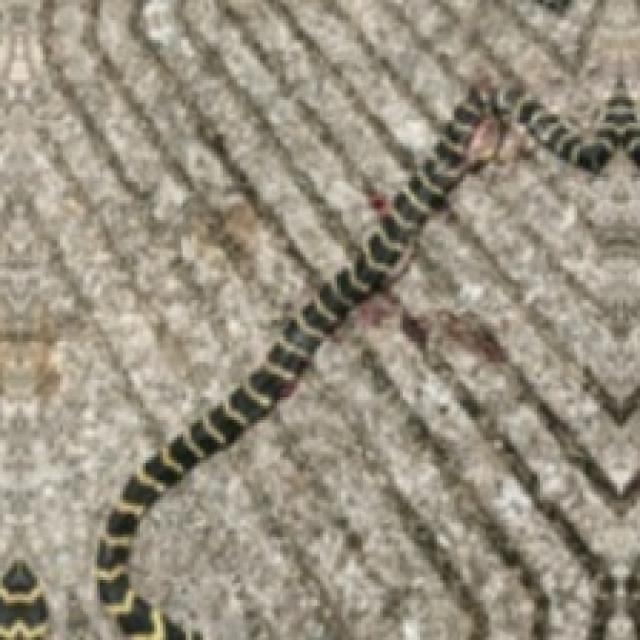king cobra: (0, 0, 637, 637), (134, 134, 637, 637), (134, 149, 637, 637)
